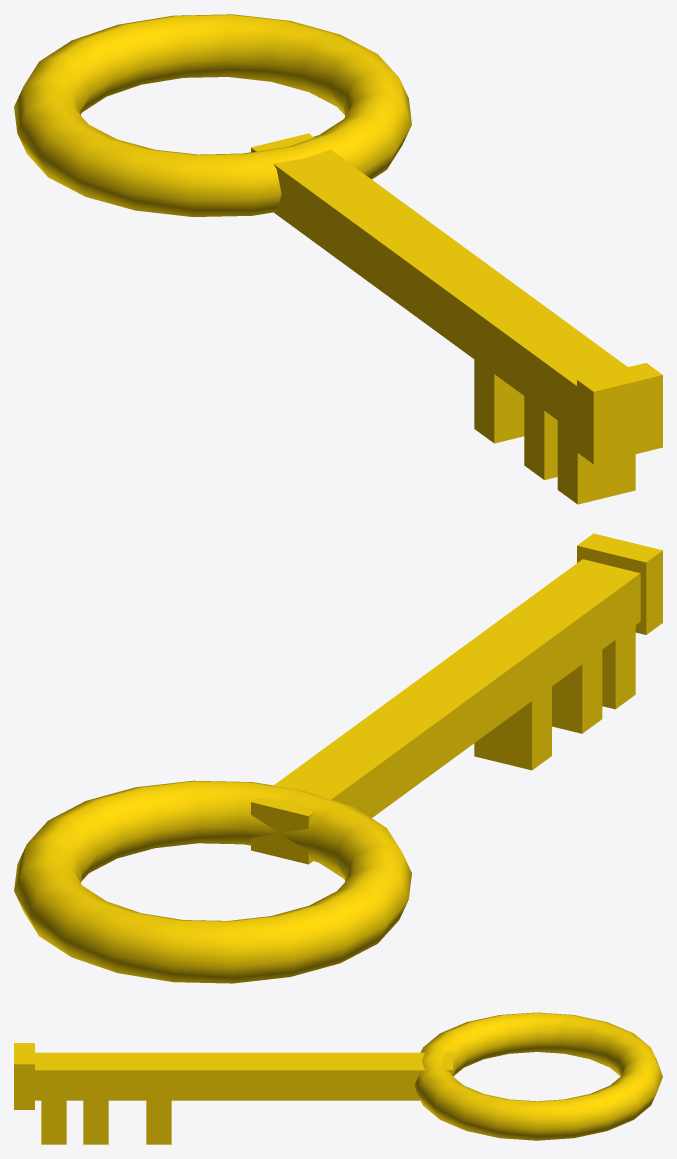
The model's file is golden_key.glb.
3 views of the same model, one above another, from view 1: azimuth 30°, elevation 25°; view 2: azimuth 150°, elevation 25°; view 3: azimuth 270°, elevation 25° (orthographic). The views are drawn at different scales.
Bounding box in the file's own units: 0.06 × 0.0215 × 0.1545.
